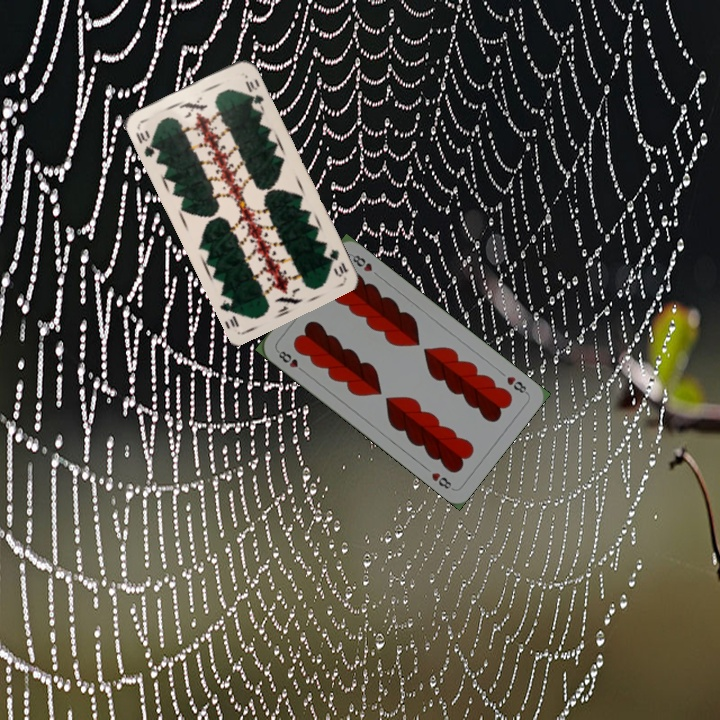G10: (131, 126, 162, 161), (325, 245, 351, 280)
H8: (273, 346, 308, 375), (503, 372, 531, 397)
